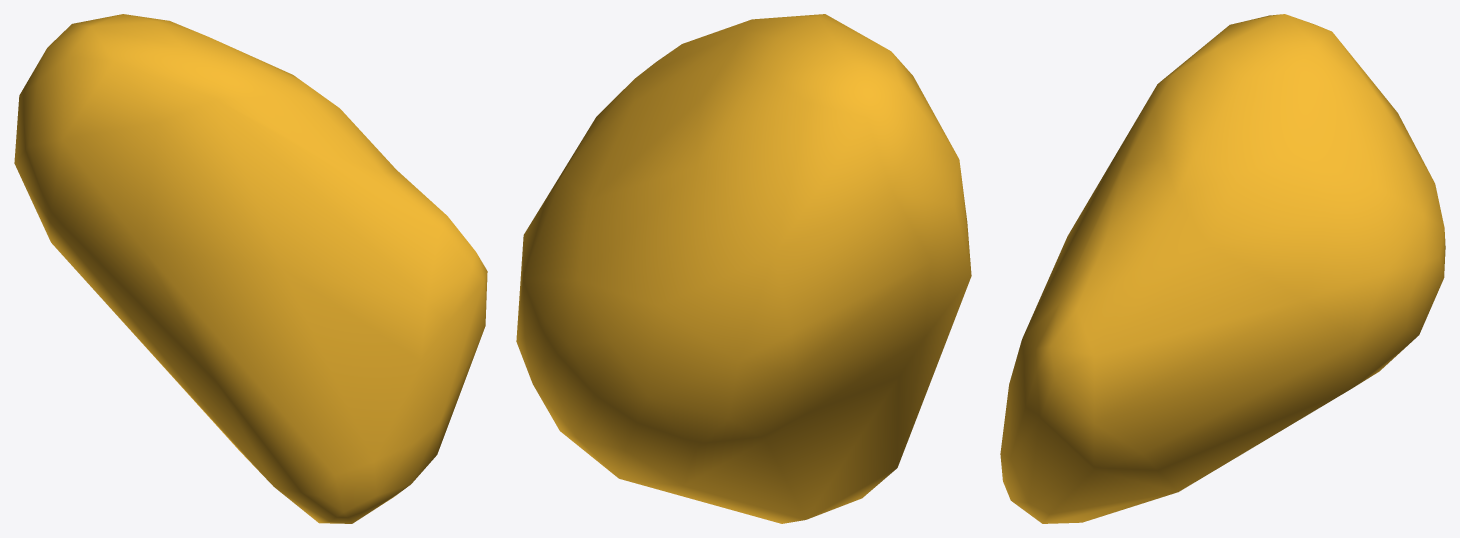
The model's file is nervoso-medial-geniculate-body-l.glb.
3 renders of one model, left to right at view 1: azimuth 30°, elevation 25°; view 2: azimuth 150°, elevation 25°; view 3: azimuth 270°, elevation 25°, orthographic. The views are drawn at different scales.
Visible parts, largest first — view 1: Medial geniculate body.l; view 2: Medial geniculate body.l; view 3: Medial geniculate body.l.
Boxes of the visible parts, x1=… form: Medial geniculate body.l: x1=14, y1=14, x2=487, y2=523; Medial geniculate body.l: x1=516, y1=14, x2=971, y2=523; Medial geniculate body.l: x1=1000, y1=14, x2=1445, y2=523.
Size of the model in its own units: 0.00633 by 0.00744 by 0.00686.
